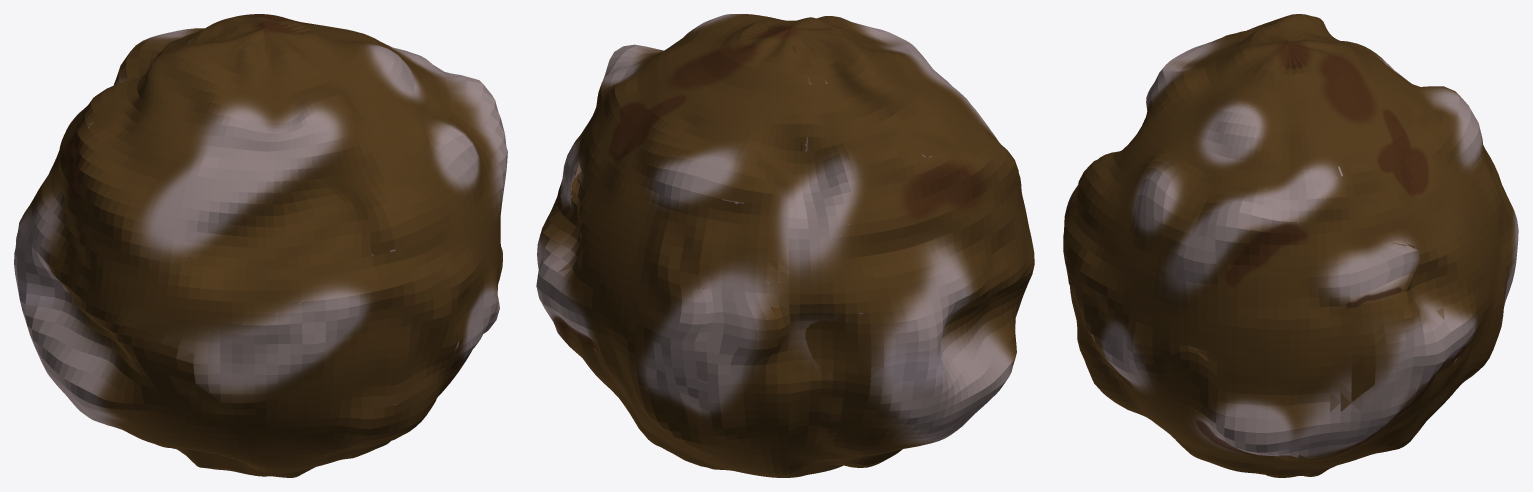
The model's file is ball.fbx.
3 views of the same model, side by side, from view 1: azimuth 30°, elevation 25°; view 2: azimuth 150°, elevation 25°; view 3: azimuth 270°, elevation 25° (orthographic). The views are drawn at different scales.
Visible parts, largest first — view 1: Sphere; view 2: Sphere; view 3: Sphere.
Boxes of the visible parts, <box> form: Sphere: <box>14,14,507,477</box>; Sphere: <box>536,14,1034,477</box>; Sphere: <box>1063,14,1518,477</box>.
Bounding box in the file's own units: 2 × 2 × 2.
Materials: 1 (1 with a texture image).
